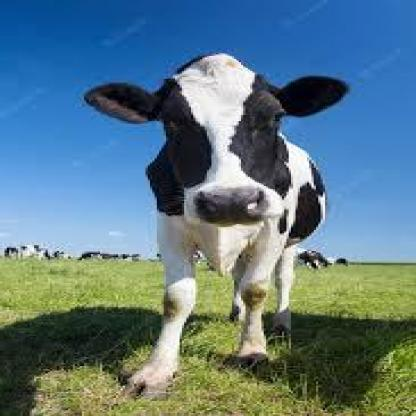cow: (84, 50, 350, 401), (296, 246, 336, 270), (3, 243, 46, 261)
